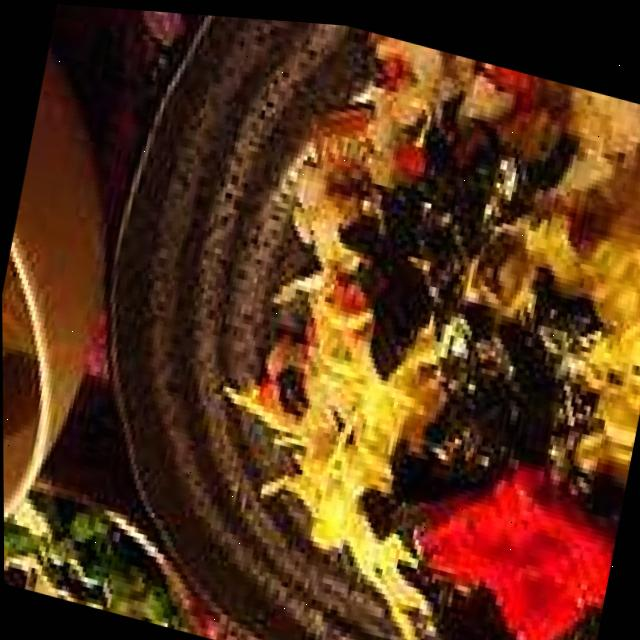寿司卷物: (0, 0, 640, 620)
